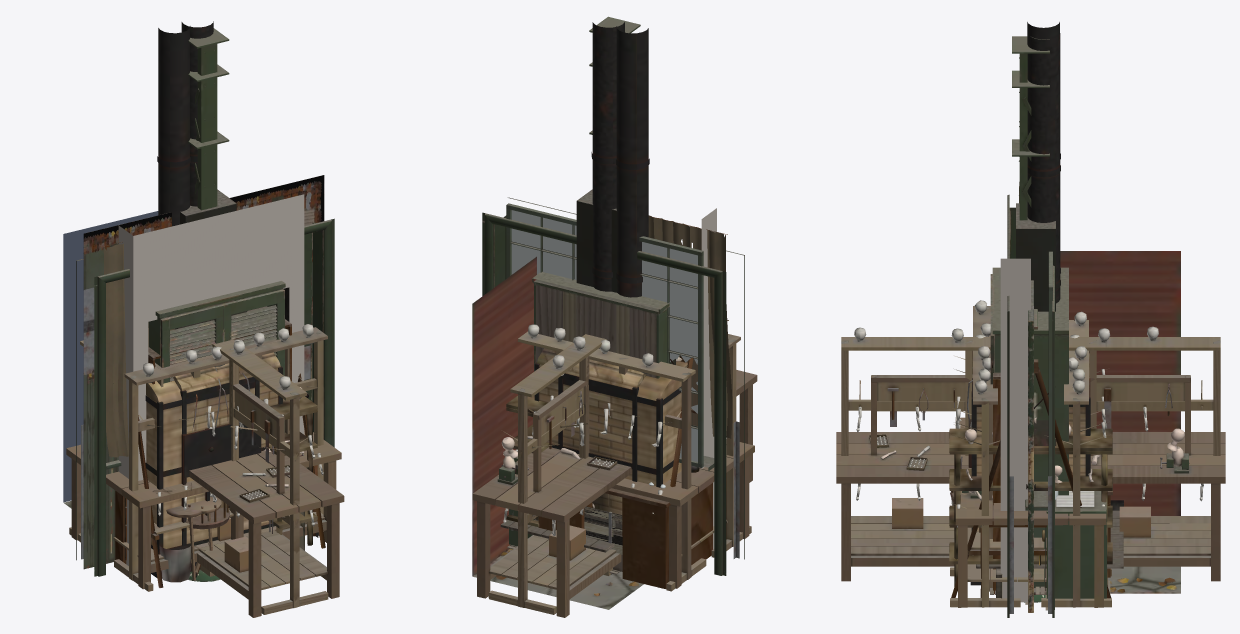
File: workshop.glb
3 renders of one model, left to right at view 1: azimuth 30°, elevation 25°; view 2: azimuth 150°, elevation 25°; view 3: azimuth 270°, elevation 25°, orthographic. The views are drawn at different scales.
Visible parts, largest first — view 1: Mod_fireplace_workshop, Isl_kiln, Solid_workbench, Exit_workshop_p0, Door_frame_workshop, Isl_drying_rack, Isl_workbench_double, Solid_drying_rack, Solid_kiln, Exit_workshop_p1, Win_industrial_curtain, Col_steel_column_H450 (+10 smaller); view 2: Solid_workbench, Isl_kiln, Exit_workshop_p0, Solid_kiln, Door_frame_workshop, Ward_body_workshop, Win_industrial_glass, Isl_drying_rack, Isl_office_desk, Solid_drying_rack, Mod_fireplace_workshop, Isl_workbench_double (+4 smaller); view 3: Solid_workbench, Exit_workshop_p0, Mod_fireplace_workshop, Solid_drying_rack, Isl_drying_rack, Solid_kiln, Isl_kiln, Ward_body_workshop, Isl_workbench_double, Isl_office_desk, Door_frame_workshop, Door_leaf_workshop (+6 smaller).
Part boxes in pixels (left/top/right/bottom): Mod_fireplace_workshop: left=118, top=189, right=304, bottom=565; Isl_kiln: left=145, top=26, right=317, bottom=582; Solid_workbench: left=189, top=383, right=344, bottom=617; Exit_workshop_p0: left=63, top=175, right=324, bottom=569; Door_frame_workshop: left=76, top=218, right=334, bottom=576; Isl_drying_rack: left=69, top=324, right=327, bottom=591; Isl_workbench_double: left=66, top=430, right=341, bottom=589; Solid_drying_rack: left=207, top=339, right=328, bottom=614; Solid_kiln: left=173, top=21, right=282, bottom=571; Exit_workshop_p1: left=63, top=211, right=158, bottom=502; Win_industrial_curtain: left=101, top=241, right=174, bottom=457; Col_steel_column_H450: left=188, top=28, right=229, bottom=210; Solid_workbench: left=472, top=370, right=757, bottom=617; Isl_kiln: left=506, top=26, right=687, bottom=527; Exit_workshop_p0: left=472, top=256, right=692, bottom=609; Solid_kiln: left=534, top=22, right=646, bottom=514; Door_frame_workshop: left=482, top=197, right=744, bottom=575; Ward_body_workshop: left=532, top=271, right=669, bottom=378; Win_industrial_glass: left=511, top=210, right=697, bottom=461; Isl_drying_rack: left=517, top=324, right=751, bottom=591; Isl_office_desk: left=509, top=449, right=712, bottom=588; Solid_drying_rack: left=488, top=320, right=728, bottom=614; Mod_fireplace_workshop: left=576, top=189, right=716, bottom=549; Isl_workbench_double: left=611, top=439, right=754, bottom=588; Solid_workbench: left=836, top=375, right=1225, bottom=581; Exit_workshop_p0: left=1034, top=251, right=1180, bottom=594; Mod_fireplace_workshop: left=1000, top=203, right=1056, bottom=602; Solid_drying_rack: left=841, top=326, right=1220, bottom=501; Isl_drying_rack: left=950, top=300, right=1111, bottom=607; Solid_kiln: left=967, top=33, right=1090, bottom=585; Isl_kiln: left=949, top=22, right=1112, bottom=586; Ward_body_workshop: left=992, top=267, right=1068, bottom=587; Isl_workbench_double: left=953, top=417, right=1106, bottom=607; Isl_office_desk: left=950, top=484, right=1112, bottom=598; Door_frame_workshop: left=1007, top=194, right=1054, bottom=617; Door_leaf_workshop: left=1026, top=280, right=1035, bottom=612.
Bounding box in the file's own units: 2.25 × 4.87 × 3.08.
35 materials, 31 textured.
